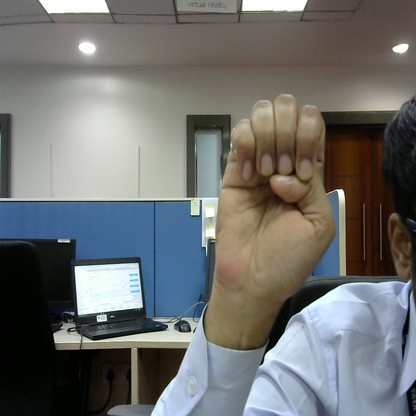e: (208, 83, 337, 293)
